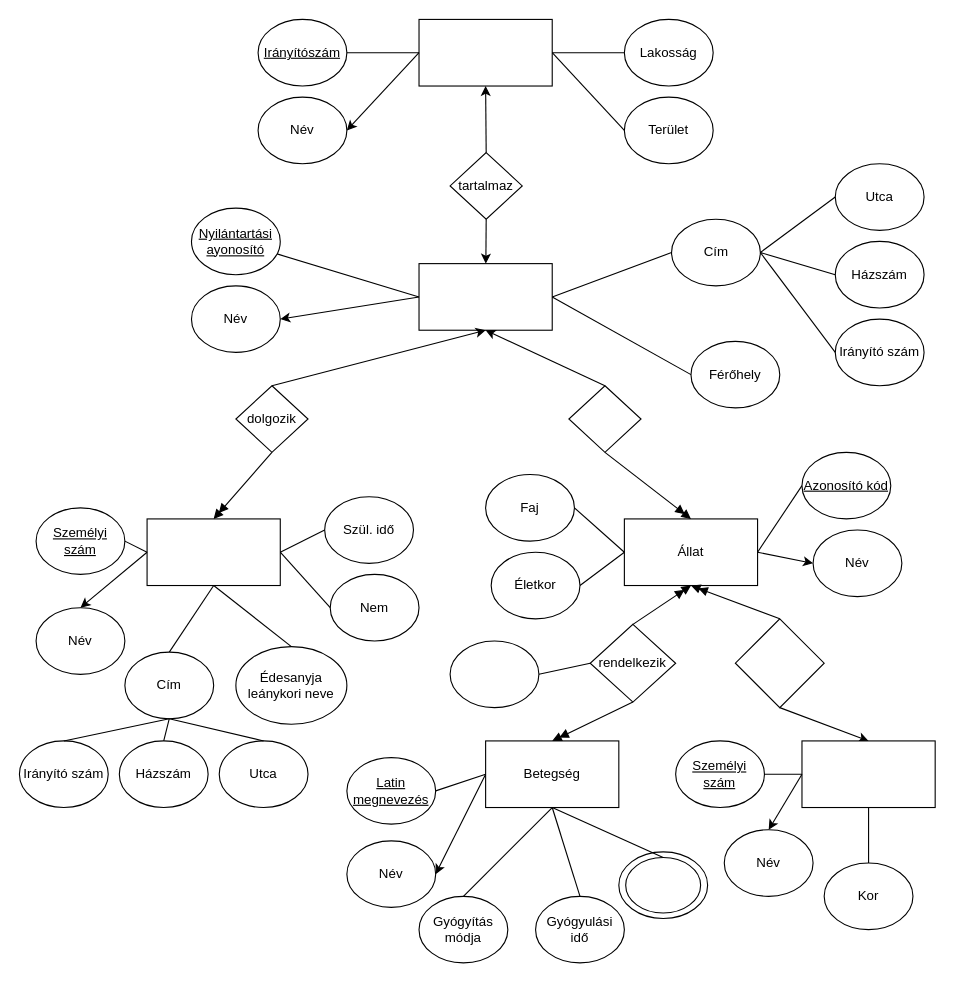
Some shapes in this 955 by 982 pixel diagram are drawn without their labels. Each missing label, with the centre of its shape:
befogad: (604,418)
Dolgozó: (213,552)
Menhely: (485,296)
Mennyiség: (494,674)
Tünet: (663,884)
Város: (485,52)
örökbefogad: (779,663)
Örökbefogadó: (868,774)
